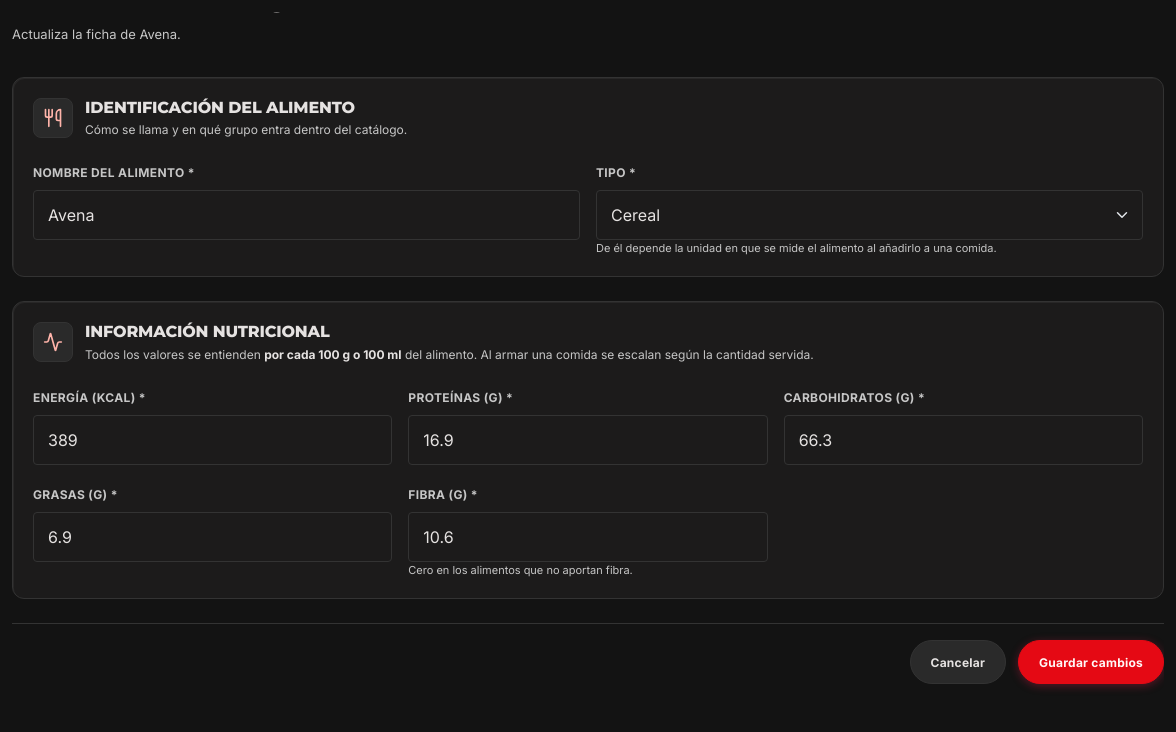
Test: AlimentoEditView › muestra suelto el mensaje de un 422 sin errores por campo
(page scrolled)
Select "Bebida" in the dropdown with id "alimento-tipo" at (870, 215), box [596,190,1143,240]
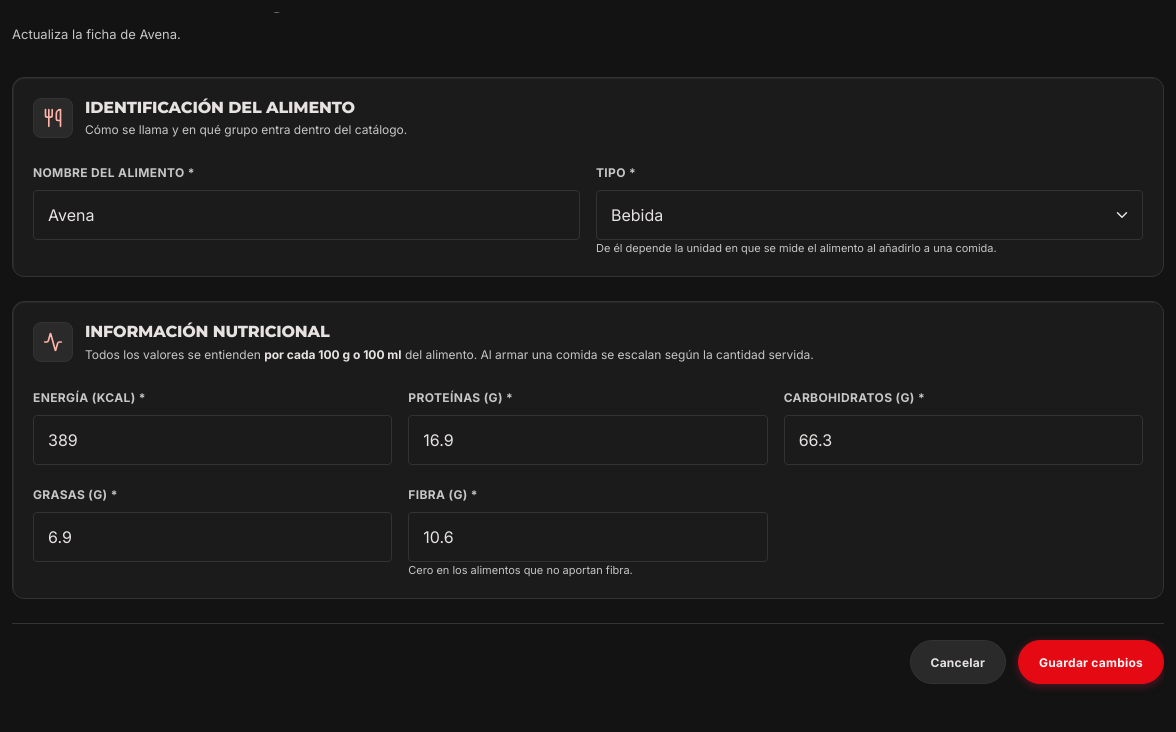
Submit the form
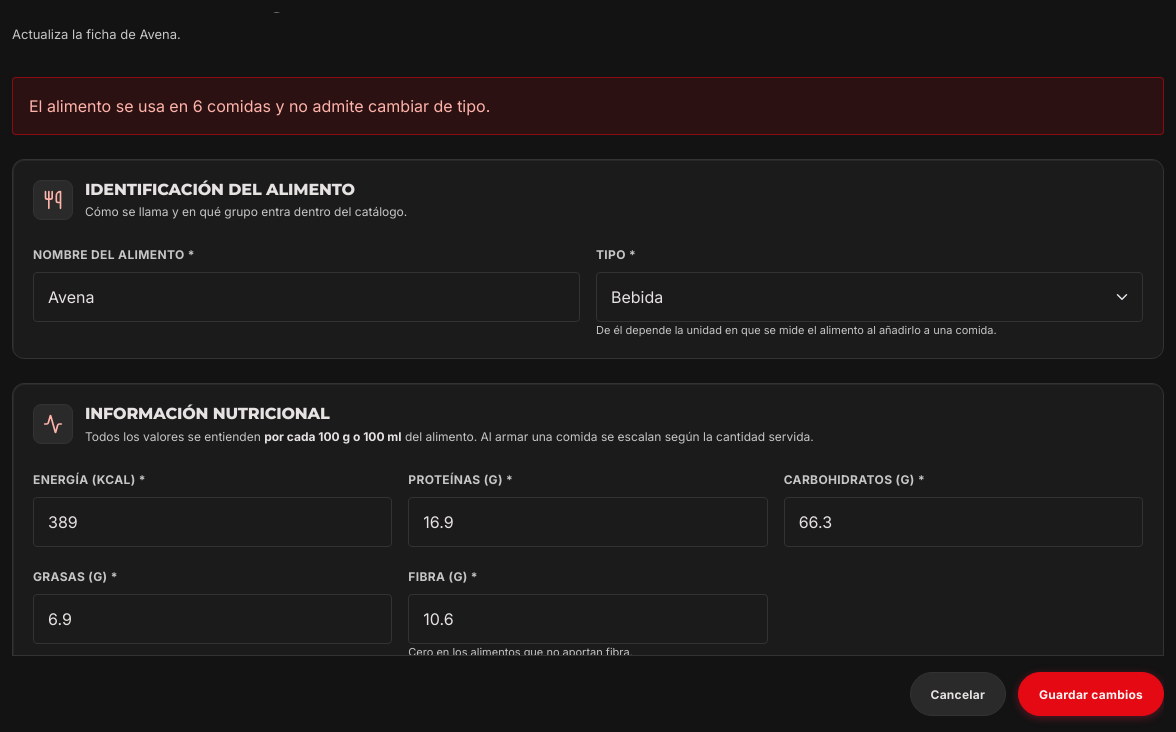
expect the message "El alimento se usa en 6 comidas y no admite cambiar de tipo." is shown: met, box [12,77,1164,135]
